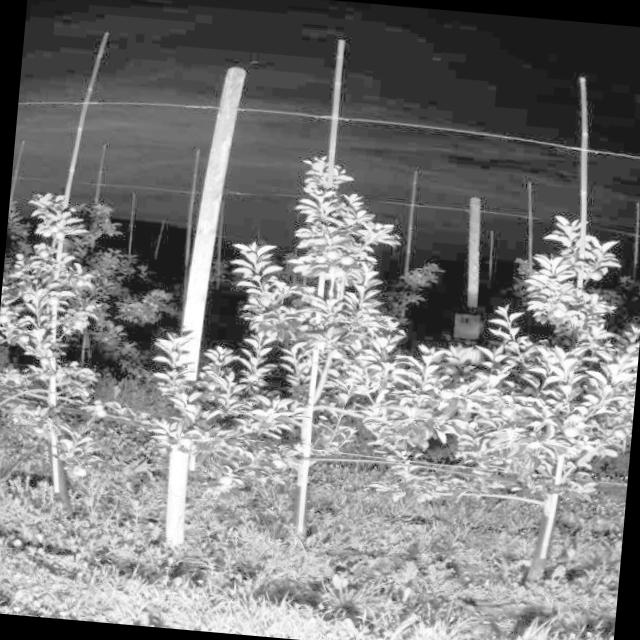Tree: (206, 148, 424, 547), (464, 209, 640, 590), (0, 186, 137, 526)
